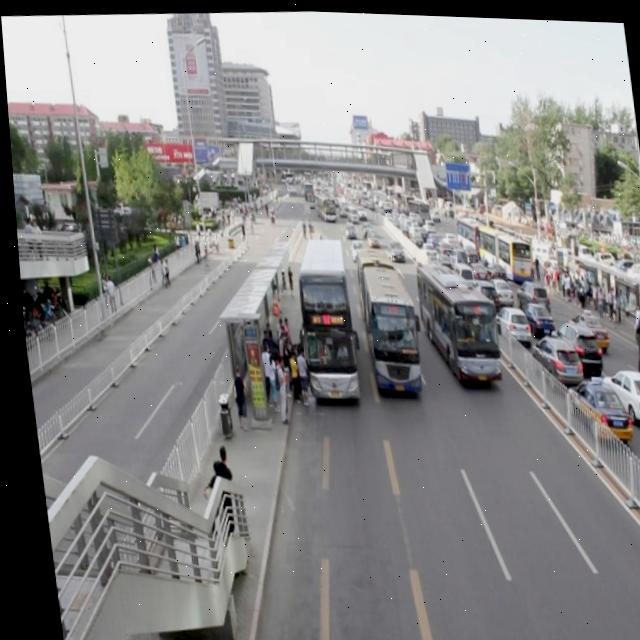car: (383, 237, 401, 260), (346, 239, 360, 259), (339, 217, 352, 237), (363, 227, 375, 246), (352, 199, 362, 217), (357, 219, 368, 234), (334, 198, 343, 214)
truck: (345, 204, 355, 221)
van: (410, 256, 496, 384), (289, 236, 354, 397), (351, 243, 417, 394), (312, 190, 333, 219)
